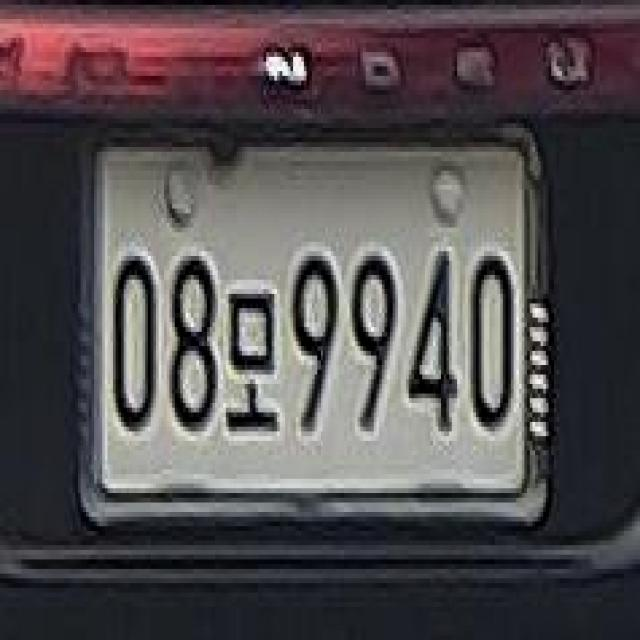illegal_plate: (76, 116, 549, 536)
